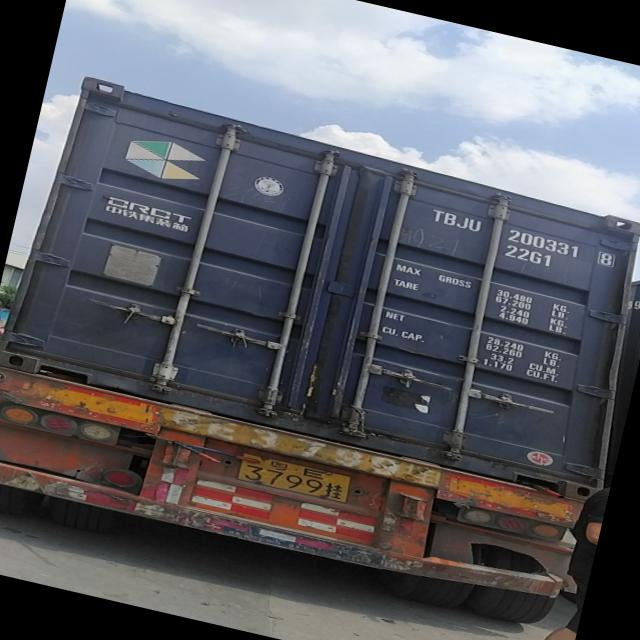seal: (396, 366, 421, 392)
